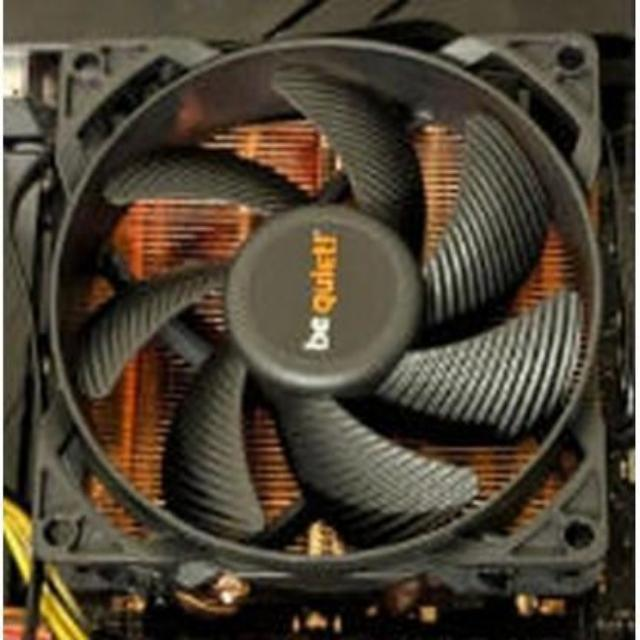CPU_Fan: (60, 61, 608, 606)
